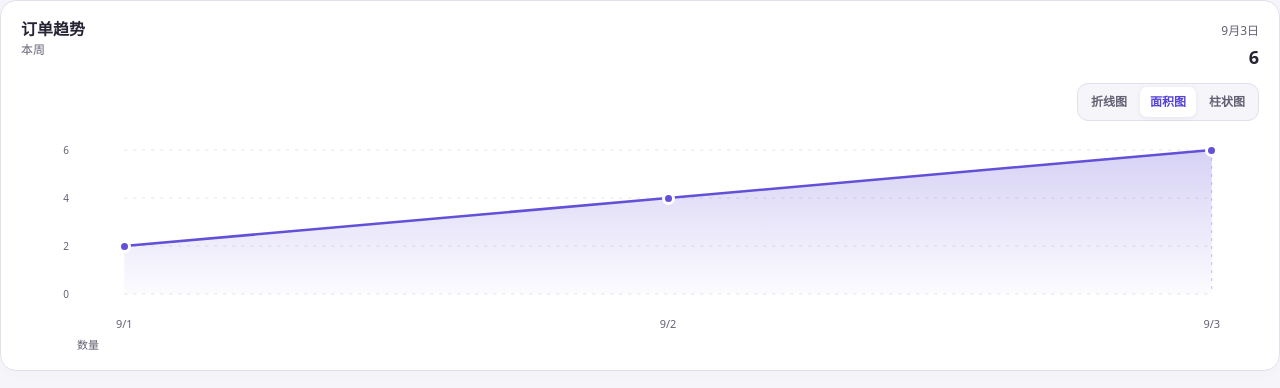
Scenario: generic series chart › restores pinned selection after hover and clears it on second click
Step 1. Click the button named "9月1日，订单趋势 2" → point(124, 246), box [108,230,140,262]
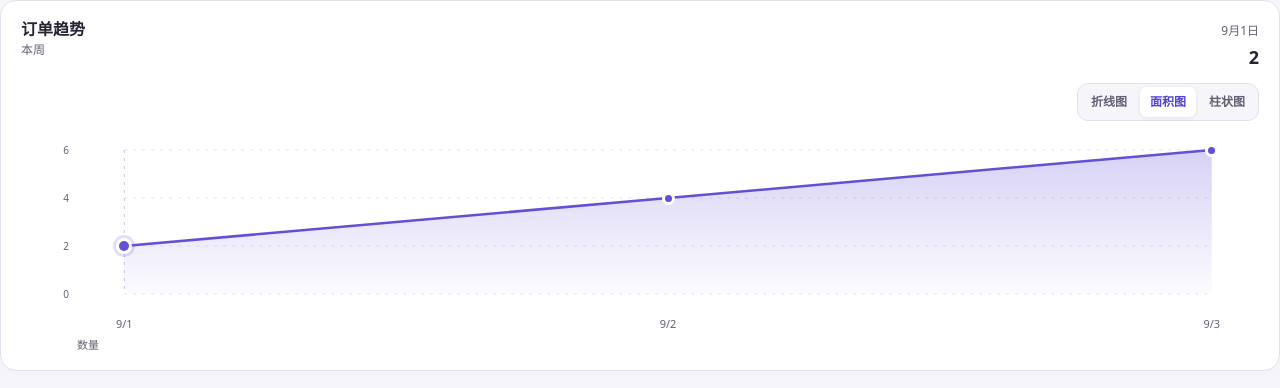
Step 2. Hover over the button named "9月2日，订单趋势 4" → point(668, 198), box [652,182,684,214]
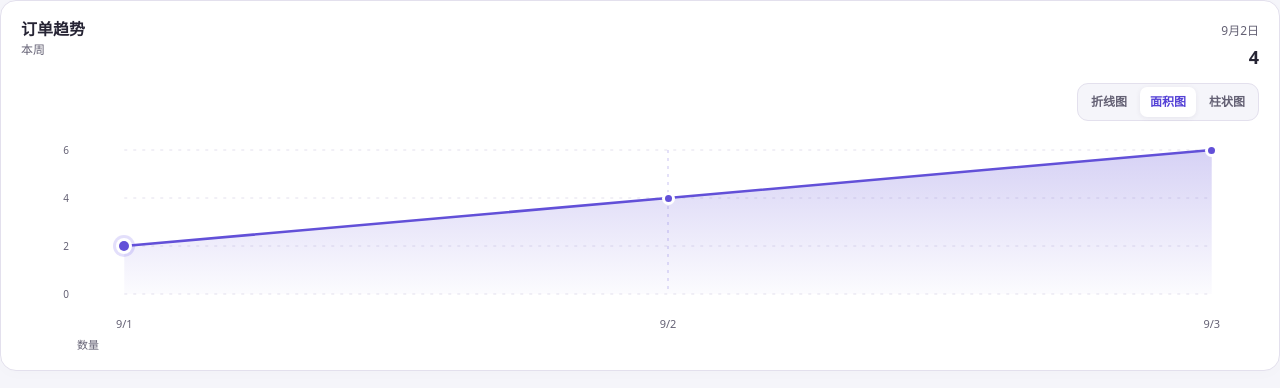
Result: the message shows "9月2日" at [1221,22,1259,39]
Step 3. Move the pointer off the button named "9月2日，订单趋势 4", box [652,182,684,214]
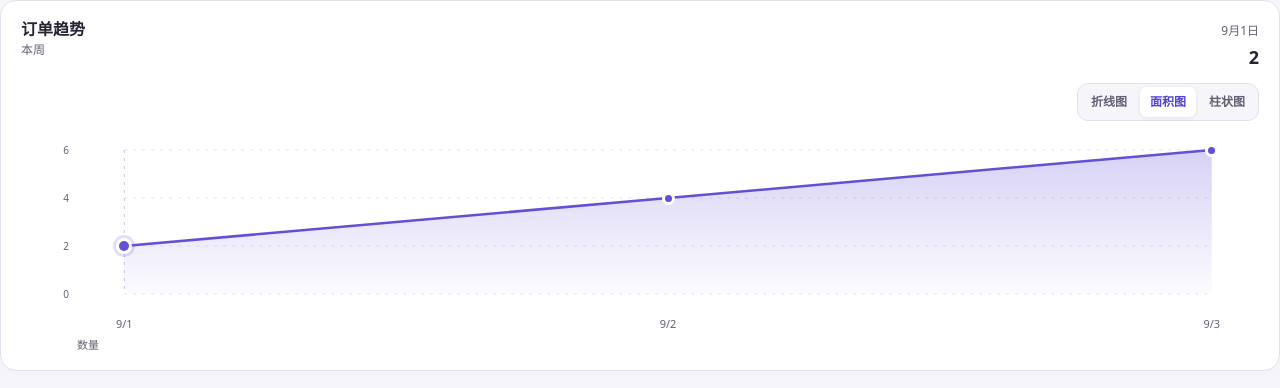
Result: the message shows "9月1日" at [1221,22,1259,39]
Step 4. Click the button named "9月1日，订单趋势 2" → point(124, 246), box [108,230,140,262]
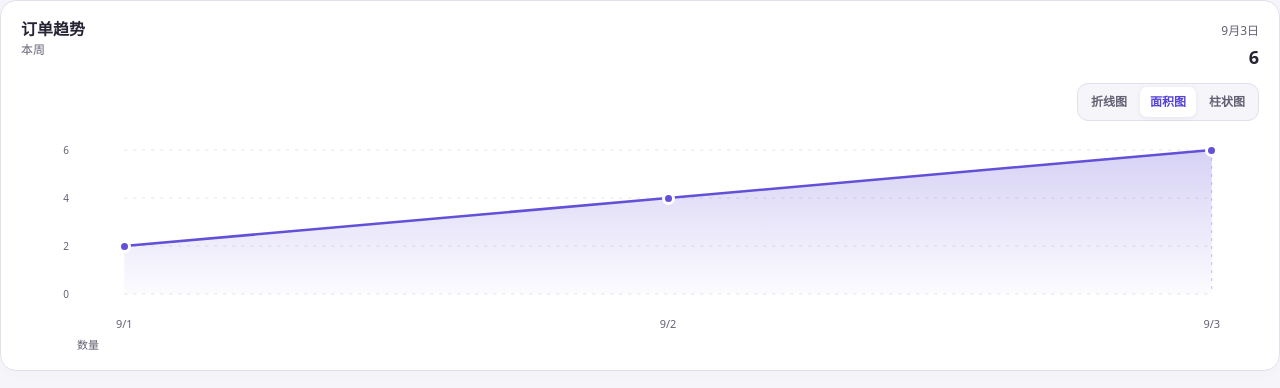
Result: the message shows "9月3日" at [1221,22,1259,39]
